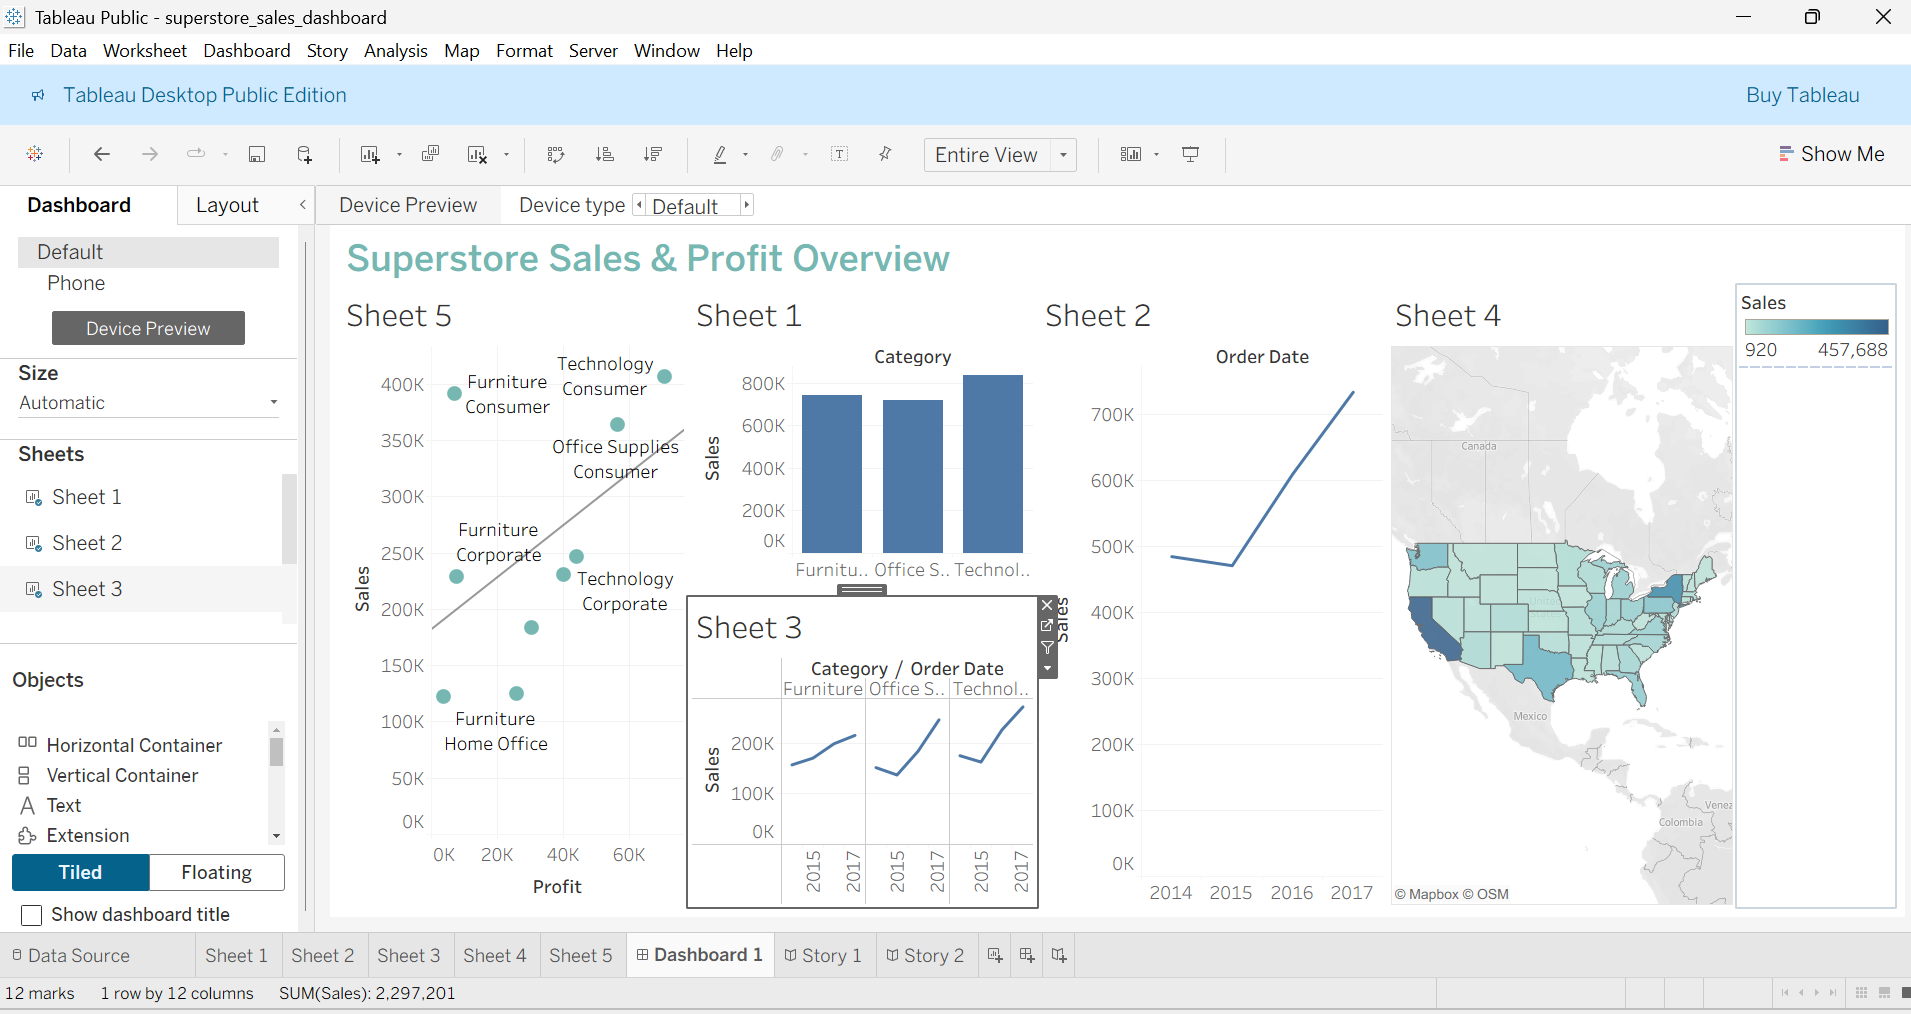

What the dashboard file says about the page in this screenshot:
{"tool":"tableau","page":{"name":"Dashboard 1","canvas":[1000,1000],"units":"permille","ordinal":0},"visuals":[{"type":"title","box":[5.1,11.6,989.8,75.1]},{"type":"worksheet","title":"Sheet 5","mark":"Automatic","rows":["Sales"],"cols":["Profit"],"box":[5.1,86.7,222.1,901.7]},{"type":"worksheet","title":"Sheet 1","mark":"Automatic","rows":["Sales"],"cols":["Category"],"box":[227.1,86.7,222.1,450.8]},{"type":"worksheet","title":"Sheet 2","mark":"Automatic","rows":["Sales"],"cols":["Order Date"],"box":[449.2,86.7,222.1,901.7]},{"type":"worksheet","title":"Sheet 4","mark":"Automatic","box":[671.3,86.7,222.1,901.7]},{"type":"legend","title":"Sheet 4","param":"[federated.0esmrbj0sp3p3u1ecgwlu0mjz44n].[sum:Sales:qk]","box":[893.3,86.7,101.6,117]},{"type":"worksheet","title":"Sheet 3","mark":"Automatic","rows":["Sales"],"cols":["Category","Order Date"],"box":[227.1,537.5,222.1,450.9]}]}

Visuals, with their boxes on the dashboard's canvas, which has no fixed pixel size, in thousandths of its width and height (x1, y1, x2, y2). These are canvas units, not pixel positions in the 1911x1014 screenshot, which may show the page scaled, cropped or inside an application window:
title: {"x1": 5, "y1": 12, "x2": 995, "y2": 87}
"Sheet 5" worksheet: {"x1": 5, "y1": 87, "x2": 227, "y2": 988}
"Sheet 1" worksheet: {"x1": 227, "y1": 87, "x2": 449, "y2": 538}
"Sheet 2" worksheet: {"x1": 449, "y1": 87, "x2": 671, "y2": 988}
"Sheet 4" worksheet: {"x1": 671, "y1": 87, "x2": 893, "y2": 988}
"Sheet 4" legend: {"x1": 893, "y1": 87, "x2": 995, "y2": 204}
"Sheet 3" worksheet: {"x1": 227, "y1": 538, "x2": 449, "y2": 988}
